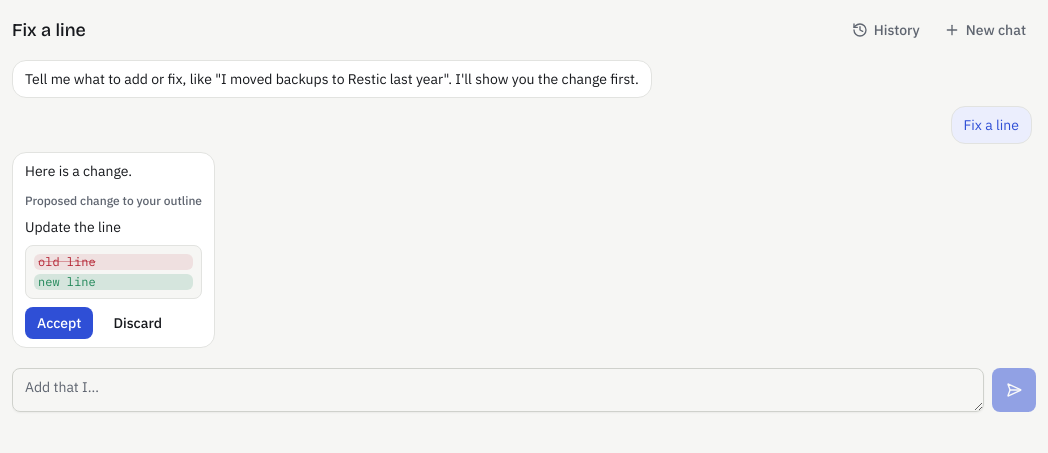
Test: says a stale proposal is out of date and disables Accept
What coordinates should you click on to do the following:
click the button "Accept"
I would click on:
 (59, 323)
Its box is [25,307,93,339].
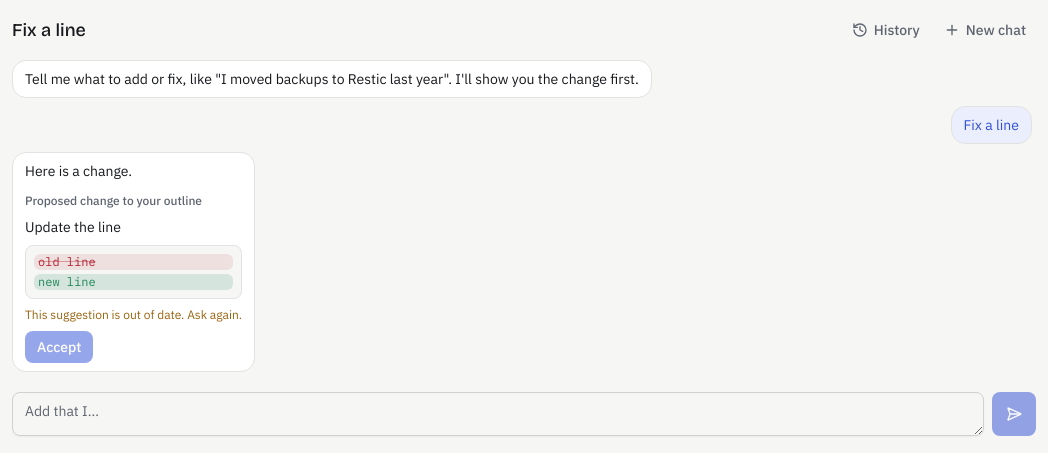
Expected: the text "This suggestion is out of date. Ask again." is shown, [25,307,242,323]
Expected: the button "Accept" is disabled, [25,331,93,363]
